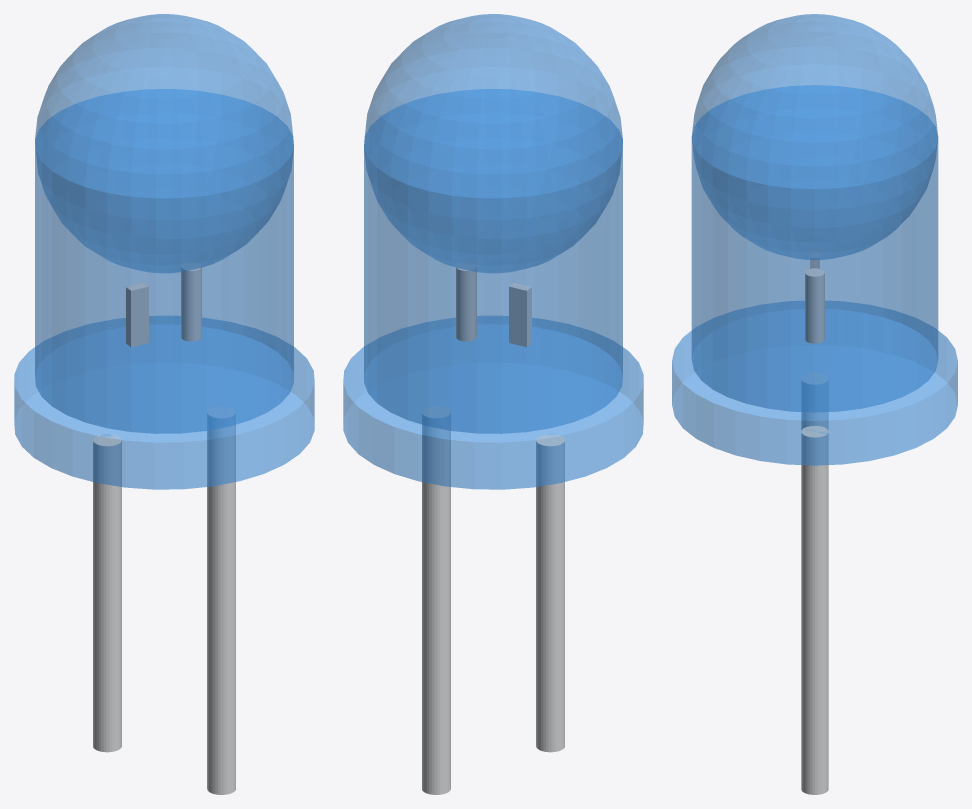
File: led_5mm_blue.glb
3 views of the same model, side by side, from view 1: azimuth 30°, elevation 25°; view 2: azimuth 150°, elevation 25°; view 3: azimuth 270°, elevation 25° (orthographic). The views are drawn at different scales.
Parts seen in each view (by area): view 1: Cylinder.001, Sphere, Cylinder, Cylinder.003, Cylinder.004, Cylinder.002, Cube; view 2: Cylinder.001, Sphere, Cylinder, Cylinder.003, Cylinder.004, Cylinder.002, Cube; view 3: Cylinder.001, Sphere, Cylinder, Cylinder.003, Cylinder.002, Cylinder.004.
Part boxes in pixels (x1=…): Cylinder.001: x1=35, y1=89, x2=293, y2=433; Sphere: x1=35, y1=14, x2=293, y2=272; Cylinder: x1=14, y1=316, x2=314, y2=489; Cylinder.003: x1=207, y1=406, x2=235, y2=794; Cylinder.004: x1=93, y1=434, x2=121, y2=752; Cylinder.002: x1=181, y1=262, x2=201, y2=341; Cube: x1=126, y1=283, x2=148, y2=347; Cylinder.001: x1=364, y1=89, x2=622, y2=433; Sphere: x1=364, y1=14, x2=622, y2=272; Cylinder: x1=343, y1=316, x2=643, y2=489; Cylinder.003: x1=422, y1=406, x2=450, y2=794; Cylinder.004: x1=536, y1=434, x2=564, y2=752; Cylinder.002: x1=456, y1=262, x2=476, y2=341; Cube: x1=509, y1=283, x2=531, y2=347; Cylinder.001: x1=691, y1=85, x2=938, y2=412; Sphere: x1=691, y1=14, x2=938, y2=259; Cylinder: x1=672, y1=301, x2=957, y2=465; Cylinder.003: x1=801, y1=426, x2=828, y2=794; Cylinder.002: x1=805, y1=268, x2=824, y2=343; Cylinder.004: x1=801, y1=373, x2=828, y2=429.
Bounding box in the file's own units: 0.0058 × 0.0165 × 0.0058.
